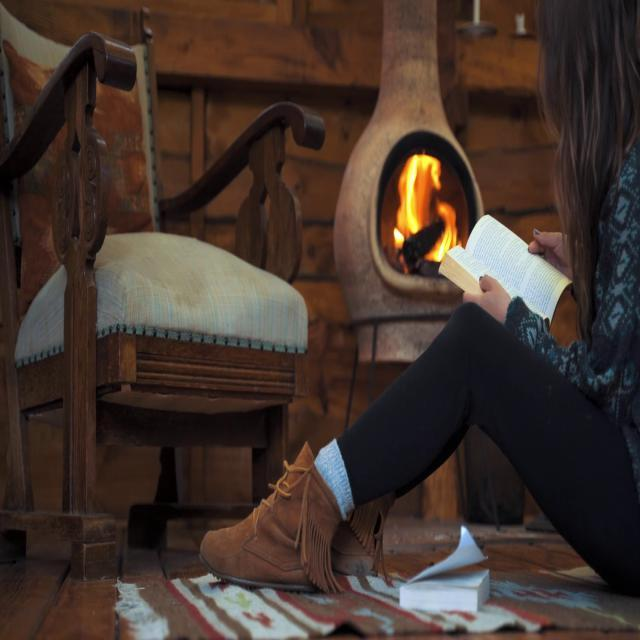Fire: (388, 152, 464, 278)
